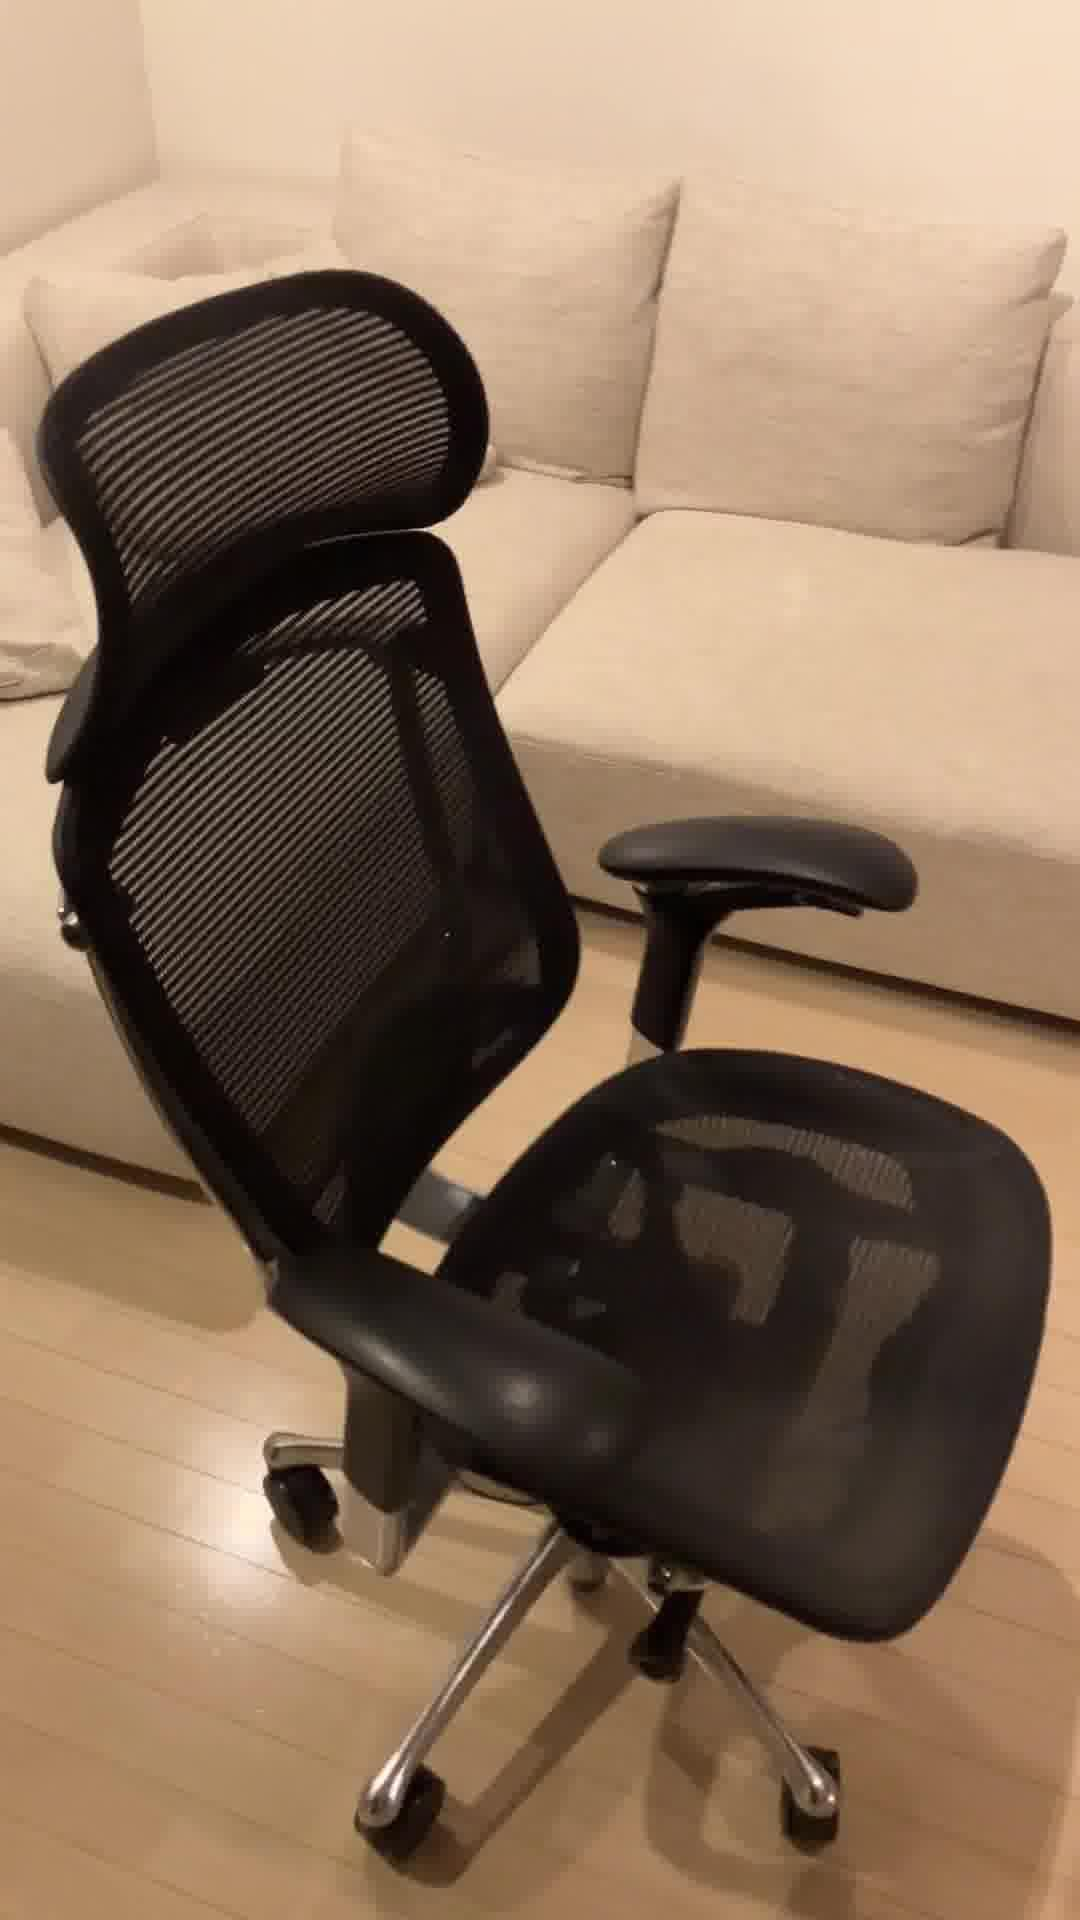okamura-contessa: (33, 256, 1051, 1865)
